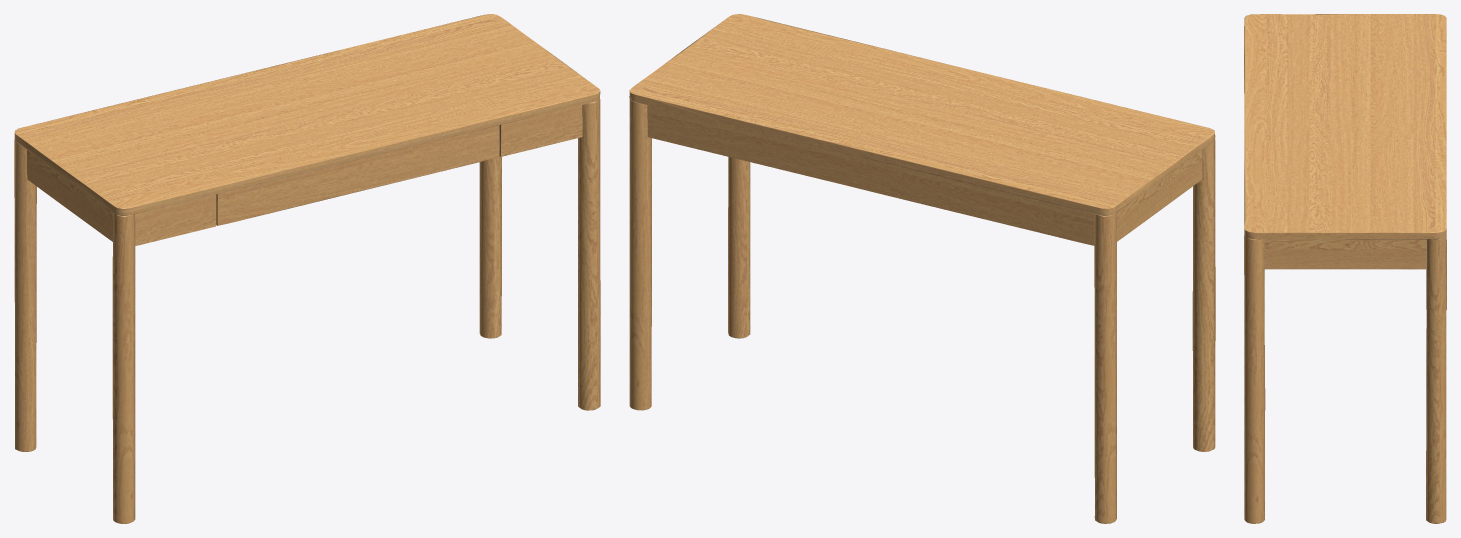
Rendered from tonstad_biurko_60538205.glb.
The picture shows the model from 3 angles, left to right: view 1: azimuth 30°, elevation 25°; view 2: azimuth 150°, elevation 25°; view 3: azimuth 270°, elevation 25°; orthographic projection. The views are drawn at different scales.
Visible parts, largest first — view 1: tonstad_biurko_60538205; view 2: tonstad_biurko_60538205; view 3: tonstad_biurko_60538205.
Part boxes in pixels (x1,y1,x2,y2): tonstad_biurko_60538205: (14,14,600,523); tonstad_biurko_60538205: (629,14,1215,523); tonstad_biurko_60538205: (1244,14,1446,523).
Bounding box in the file's own units: 1.2 × 0.7502 × 0.4709.
1 material, 1 textured.
